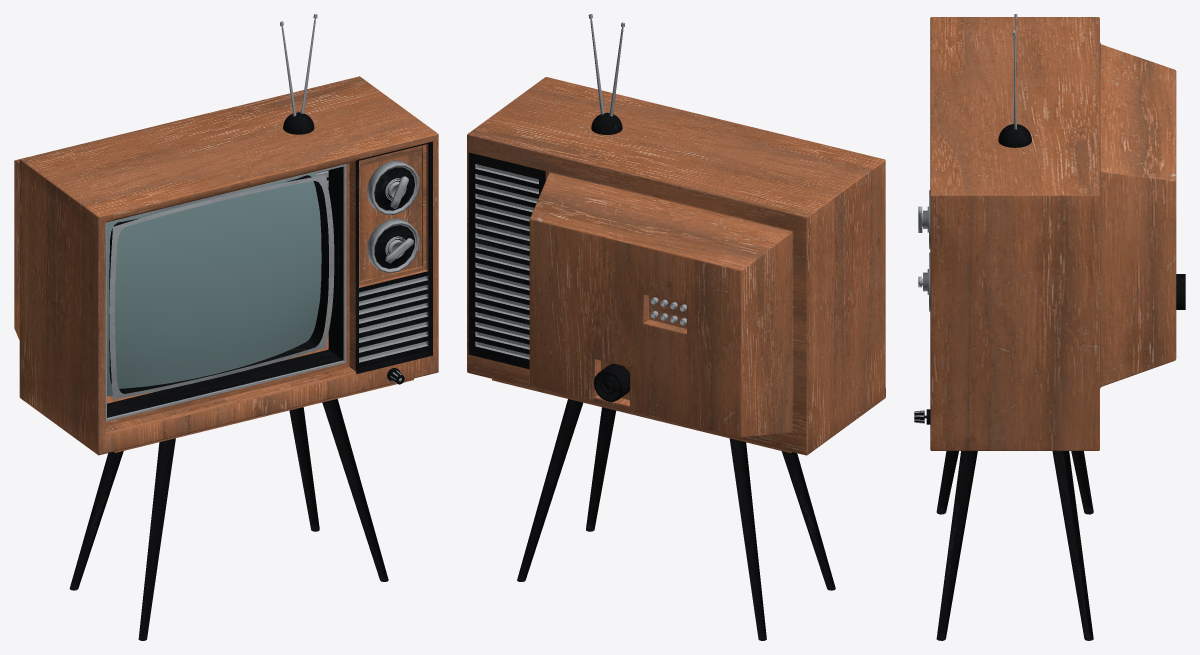
The model's file is obj_retro_tv_03765a.glb.
The picture shows the model from 3 angles, left to right: view 1: azimuth 30°, elevation 25°; view 2: azimuth 150°, elevation 25°; view 3: azimuth 270°, elevation 25°; orthographic projection. The views are drawn at different scales.
Parts seen in each view (by area): view 1: obj_retro_tv_03765a; view 2: obj_retro_tv_03765a; view 3: obj_retro_tv_03765a.
Part boxes in pixels (x1,y1,x2,y2): obj_retro_tv_03765a: (14, 14, 438, 640); obj_retro_tv_03765a: (467, 14, 885, 640); obj_retro_tv_03765a: (914, 14, 1185, 640).
Bounding box in the file's own units: 0.7789 × 1.2 × 0.5004.
4 materials, 3 textured.
